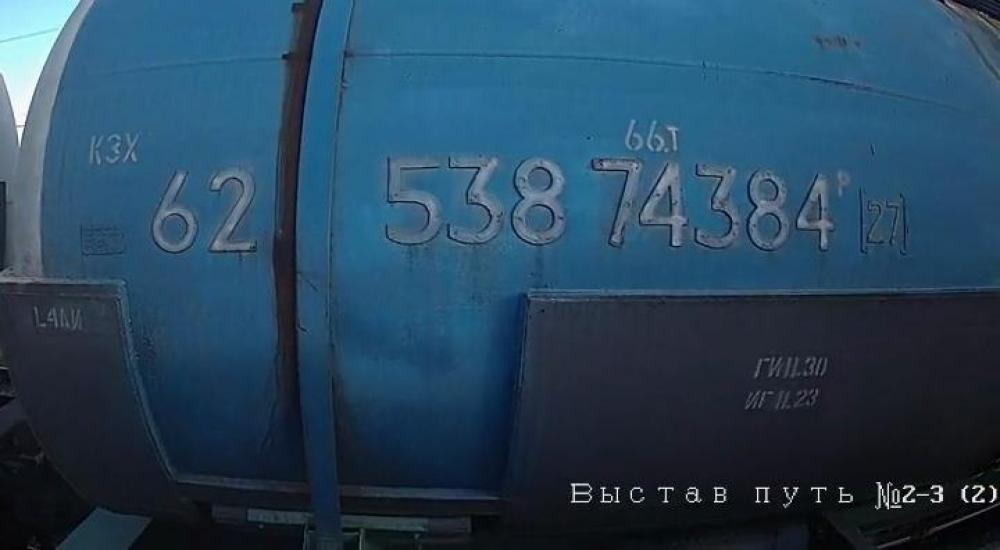Wagon-number: (373, 146, 841, 259)
